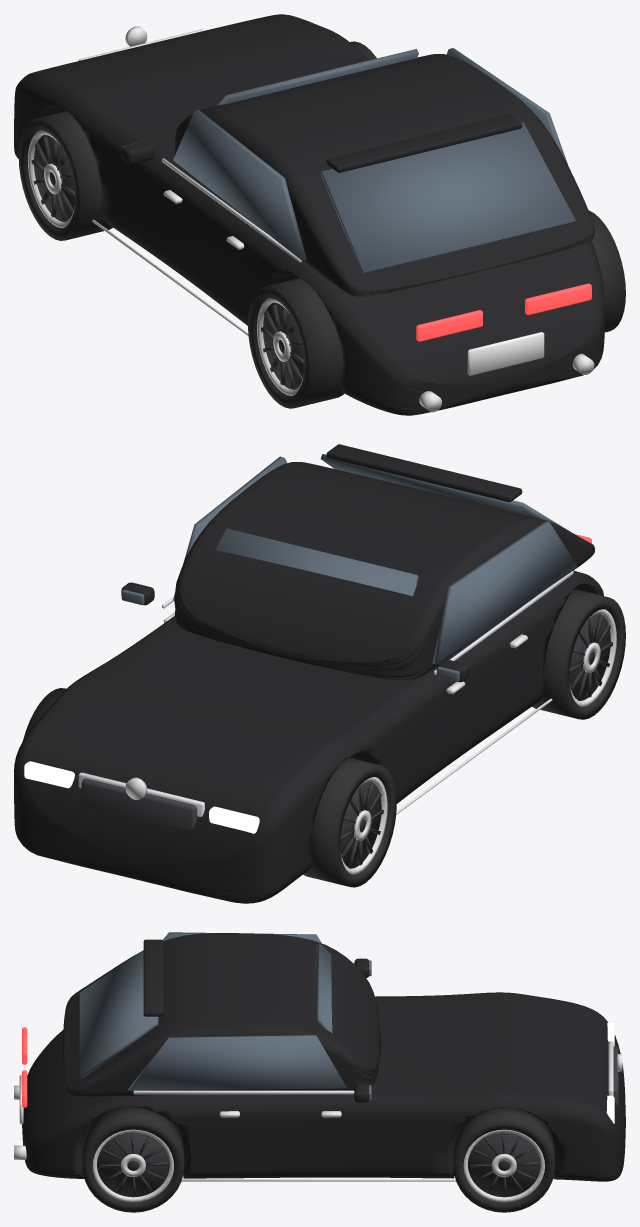
The model's file is shooting_brake.glb.
The picture shows the model from 3 angles, top to bottom: view 1: azimuth 30°, elevation 25°; view 2: azimuth 150°, elevation 25°; view 3: azimuth 270°, elevation 25°; orthographic projection. The views are drawn at different scales.
Parts seen in each view (by area): view 1: Body, Cabin, RearGlass, SideGlassL, TireRL, TireFL, Spoiler, TireRR, Plate, Windshield, DishRL, DishFL (+8 smaller); view 2: Body, Cabin, SideGlassL, TireFL, TireRL, Windshield, Spoiler, Grille, RearGlass, DishFL, DishRL, SideGlassR (+7 smaller); view 3: Body, Cabin, SideGlassR, RearGlass, TireRR, TireFR, DishRR, DishFR, Spoiler, Windshield, BeltR, LipRR (+4 smaller).
Boxes of the visible parts, bbox=[...] form: Body: bbox=[14, 14, 604, 415]; Cabin: bbox=[174, 54, 594, 296]; RearGlass: bbox=[320, 122, 575, 274]; SideGlassL: bbox=[173, 110, 306, 260]; TireRL: bbox=[248, 278, 344, 408]; TireFL: bbox=[18, 111, 112, 240]; Spoiler: bbox=[326, 115, 522, 172]; TireRR: bbox=[588, 210, 625, 332]; Plate: bbox=[467, 332, 544, 375]; Windshield: bbox=[216, 49, 418, 105]; DishRL: bbox=[263, 302, 304, 389]; DishFL: bbox=[34, 135, 75, 222]; Body: bbox=[14, 570, 603, 903]; Cabin: bbox=[174, 462, 594, 680]; SideGlassL: bbox=[432, 521, 577, 664]; TireFL: bbox=[303, 757, 396, 887]; TireRL: bbox=[532, 589, 625, 719]; Windshield: bbox=[215, 528, 418, 596]; Spoiler: bbox=[326, 444, 522, 502]; Grille: bbox=[81, 778, 197, 830]; RearGlass: bbox=[320, 454, 570, 531]; DishFL: bbox=[340, 781, 381, 868]; DishRL: bbox=[569, 613, 610, 700]; SideGlassR: bbox=[173, 456, 287, 600]; Body: bbox=[22, 992, 625, 1181]; Cabin: bbox=[62, 933, 381, 1096]; SideGlassR: bbox=[128, 1035, 346, 1090]; RearGlass: bbox=[79, 950, 158, 1078]; TireRR: bbox=[82, 1106, 184, 1212]; TireFR: bbox=[453, 1108, 554, 1212]; DishRR: bbox=[97, 1132, 169, 1197]; DishFR: bbox=[468, 1132, 540, 1197]; Spoiler: bbox=[143, 939, 163, 1016]; Windshield: bbox=[316, 943, 332, 1032]; BeltR: bbox=[133, 1090, 354, 1094]; LipRR: bbox=[92, 1129, 173, 1202].
Size of the model in its own units: 1.26 by 0.759 by 2.41.
